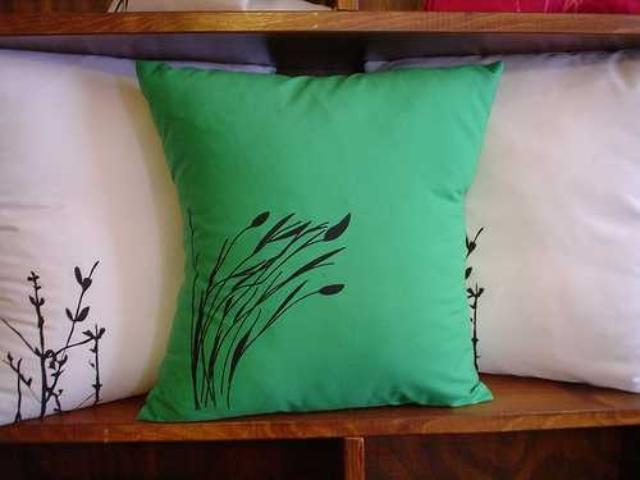pillow: (133, 56, 504, 422), (366, 47, 638, 392)
